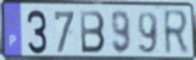3: (24, 7, 48, 56)
7: (53, 10, 75, 54)
9: (137, 10, 161, 55), (110, 8, 132, 56)
B: (78, 9, 107, 56)
R: (162, 8, 191, 58)
